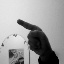g: (15, 16, 51, 56)
